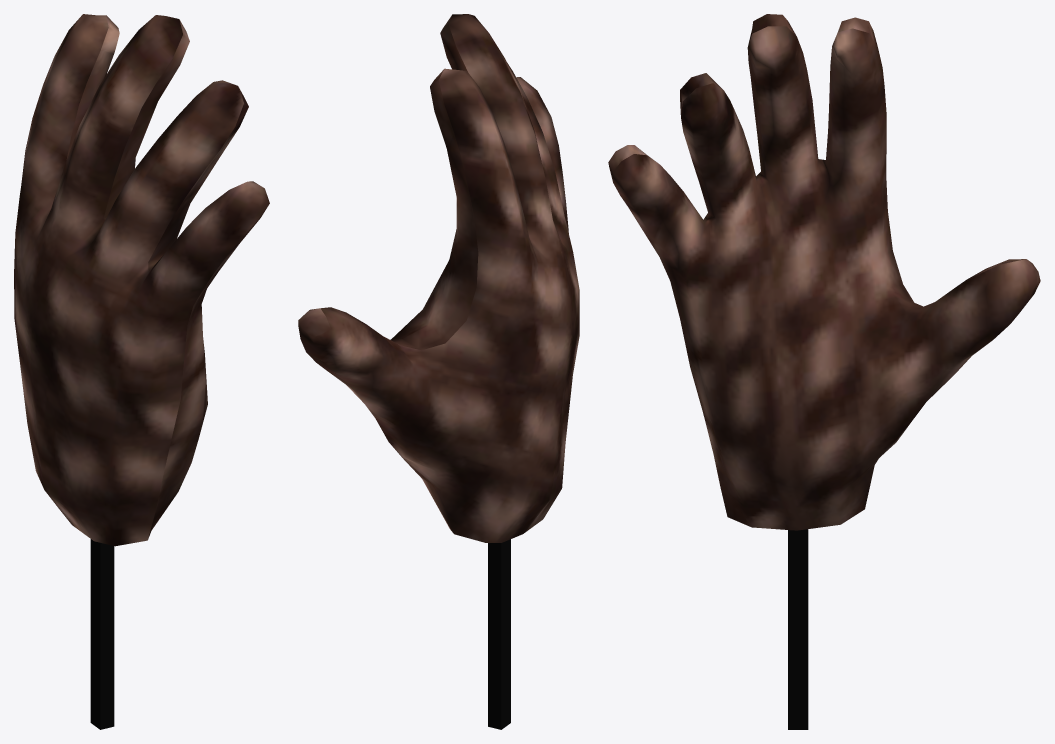
Rendered from Slap_5.obj.
The picture shows the model from 3 angles, left to right: view 1: azimuth 30°, elevation 25°; view 2: azimuth 150°, elevation 25°; view 3: azimuth 270°, elevation 25°; orthographic projection. The views are drawn at different scales.
Visible parts, largest first — view 1: Handle1, Stick1; view 2: Handle1, Stick1; view 3: Handle1, Stick1.
Boxes of the visible parts, x1,y1,x2,y2 form: Handle1: [14, 14, 269, 546]; Stick1: [90, 539, 114, 729]; Handle1: [298, 14, 579, 542]; Stick1: [488, 539, 510, 729]; Handle1: [608, 14, 1040, 530]; Stick1: [788, 529, 808, 729].
Size of the model in its own units: 1.32 by 5 by 2.66.
Materials: 2 (1 with a texture image).
